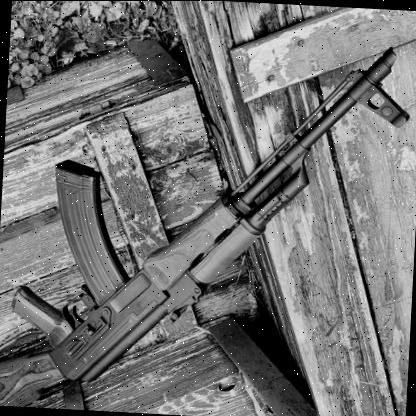rifle: (0, 12, 403, 416)
